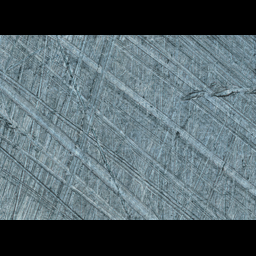d: (178, 79, 255, 105)
